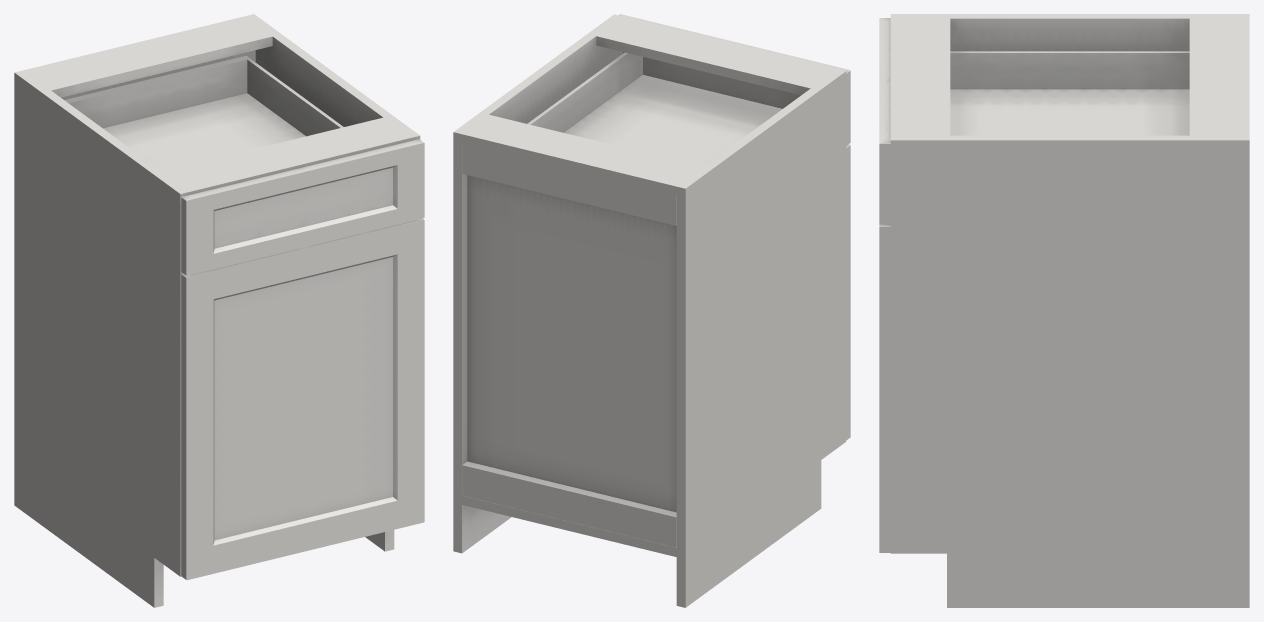
File: 1-door-1-drawer-base-doors-on.glb
3 renders of one model, left to right at view 1: azimuth 30°, elevation 25°; view 2: azimuth 150°, elevation 25°; view 3: azimuth 270°, elevation 25°, orthographic. The views are drawn at different scales.
Visible parts, largest first — view 1: part_0, part_6, part_8; view 2: part_0, part_8, part_6; view 3: part_0, part_8, part_6.
Boxes of the visible parts, <box> form: part_0: <box>14,14,420,607</box>; part_6: <box>181,139,424,580</box>; part_8: <box>64,55,343,171</box>; part_0: <box>453,14,846,607</box>; part_8: <box>527,52,782,166</box>; part_6: <box>619,14,850,440</box>; part_0: <box>890,14,1249,607</box>; part_8: <box>950,51,1189,135</box>; part_6: <box>879,18,890,552</box>.
Bounding box in the file's own units: 0.508 × 0.8763 × 0.6286.
3 materials, 2 textured.
